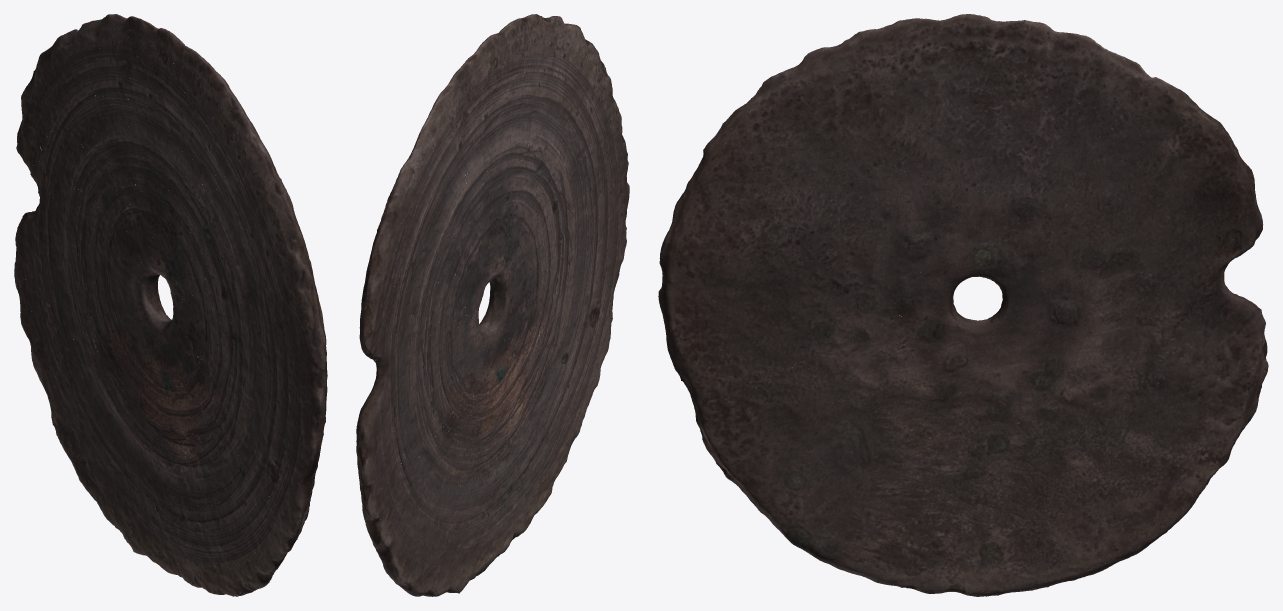
The model's file is disk_low.glb.
3 renders of one model, left to right at view 1: azimuth 30°, elevation 25°; view 2: azimuth 150°, elevation 25°; view 3: azimuth 270°, elevation 25°, orthographic. The views are drawn at different scales.
Visible parts, largest first — view 1: Model; view 2: Model; view 3: Model.
Part boxes in pixels (x1,y1,x2,y2): Model: [14, 14, 327, 596]; Model: [356, 14, 629, 596]; Model: [658, 14, 1268, 596].
Size of the model in its own units: 0.0603 by 0.82 by 0.785.
1 material, 1 textured.
